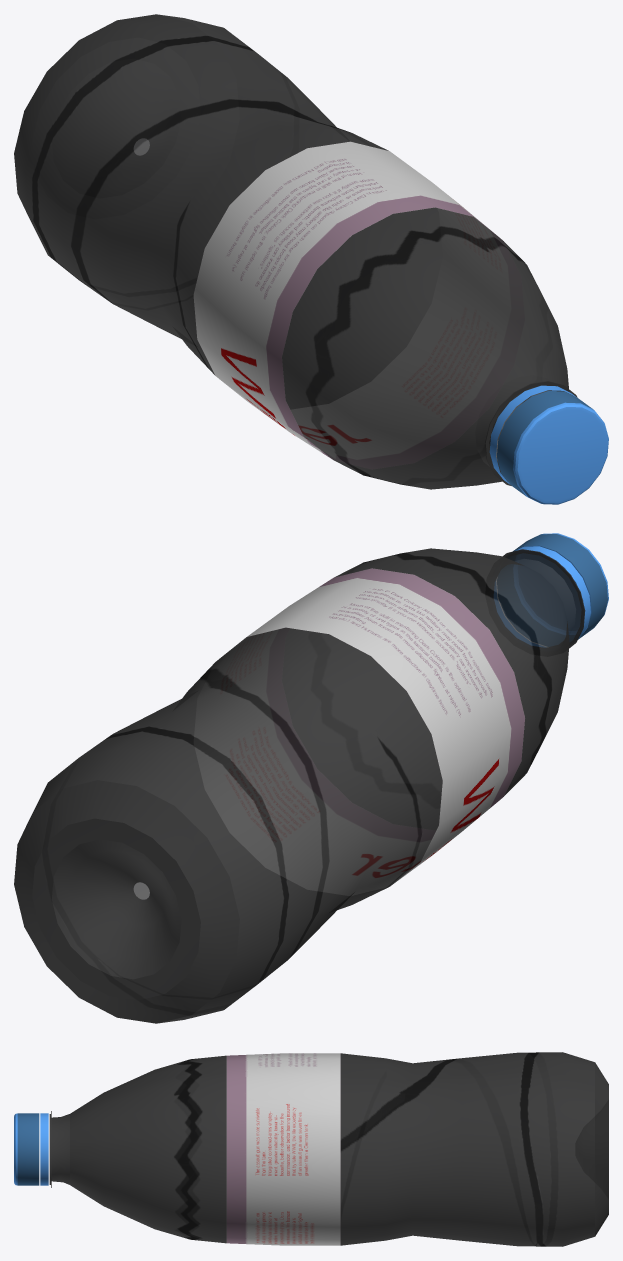
The model's file is bottleevian.fbx.
3 views of the same model, one above another, from view 1: azimuth 30°, elevation 25°; view 2: azimuth 150°, elevation 25°; view 3: azimuth 270°, elevation 25° (orthographic). The views are drawn at different scales.
Visible parts, largest first — view 1: Cylinder001.001, Cylinder001.002, Cylinder001.003, Cylinder001.004; view 2: Cylinder001.001, Cylinder001.002, Cylinder001.003, Cylinder001.004; view 3: Cylinder001.001, Cylinder001.002, Cylinder001.004, Cylinder001.003.
Part boxes in pixels (left/top/right/bottom): Cylinder001.001: left=14, top=14, right=577, bottom=489; Cylinder001.002: left=193, top=141, right=524, bottom=468; Cylinder001.003: left=489, top=385, right=608, bottom=504; Cylinder001.004: left=497, top=391, right=592, bottom=495; Cylinder001.001: left=14, top=548, right=585, bottom=1023; Cylinder001.002: left=194, top=568, right=524, bottom=895; Cylinder001.003: left=494, top=533, right=608, bottom=647; Cylinder001.004: left=497, top=534, right=607, bottom=646; Cylinder001.001: left=49, top=1052, right=608, bottom=1246; Cylinder001.002: left=226, top=1053, right=340, bottom=1245; Cylinder001.004: left=17, top=1113, right=39, bottom=1185; Cylinder001.003: left=14, top=1113, right=48, bottom=1185.
Size of the model in its own units: 3.17 by 3.17 by 9.71.
